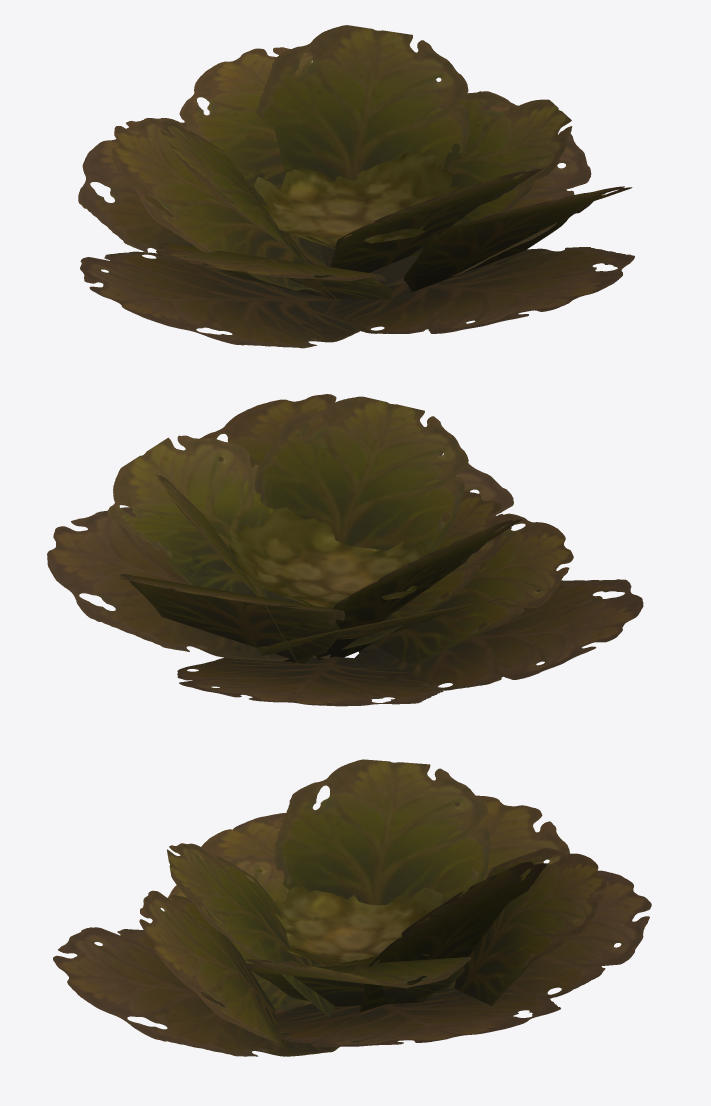
File: gardenbed_cabbage.FBX
3 renders of one model, top to bottom at view 1: azimuth 30°, elevation 25°; view 2: azimuth 150°, elevation 25°; view 3: azimuth 270°, elevation 25°, orthographic.
Visible parts, largest first — view 1: gardenbed_cabbage; view 2: gardenbed_cabbage; view 3: gardenbed_cabbage.
Part boxes in pixels (x1,y1,x2,y2): gardenbed_cabbage: (78,25,634,348); gardenbed_cabbage: (47,394,643,706); gardenbed_cabbage: (53,759,651,1056).
Bounding box in the file's own units: 0.9589 × 0.3377 × 0.9874.
Materials: 1 (1 with a texture image).
